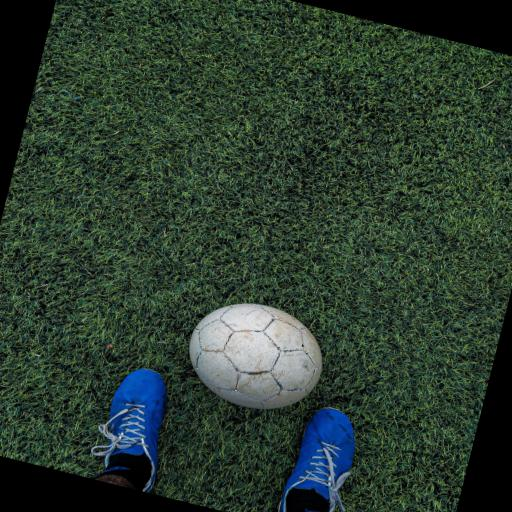shoe: (91, 369, 165, 491), (278, 408, 354, 511)
